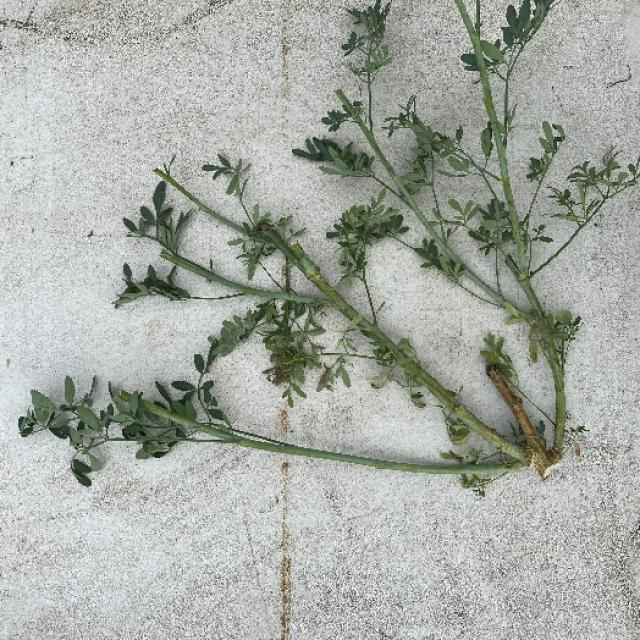organik: (22, 0, 604, 529)
